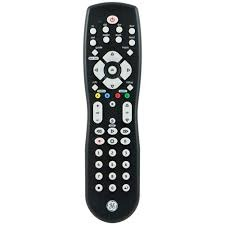remote control: (75, 5, 149, 222)
